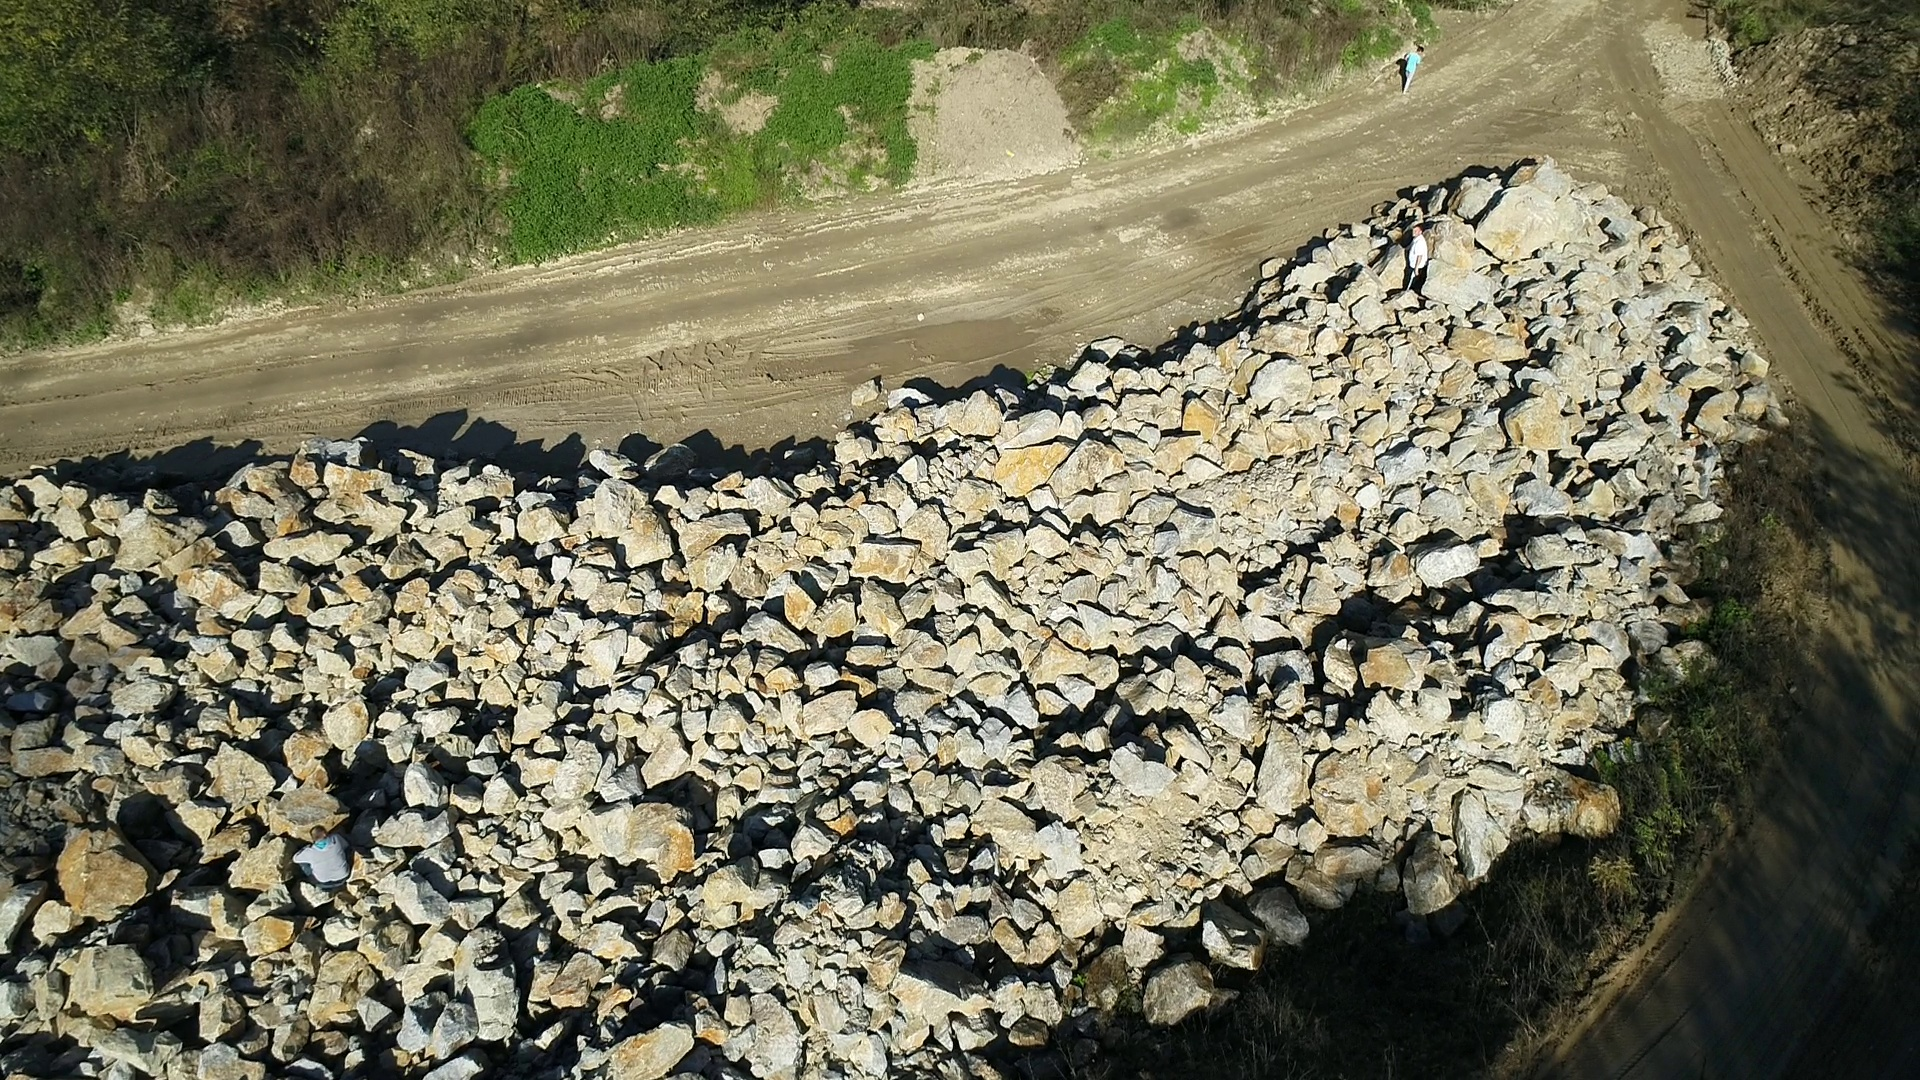person: (292, 824, 350, 889), (1405, 226, 1429, 293), (1402, 45, 1425, 94)
